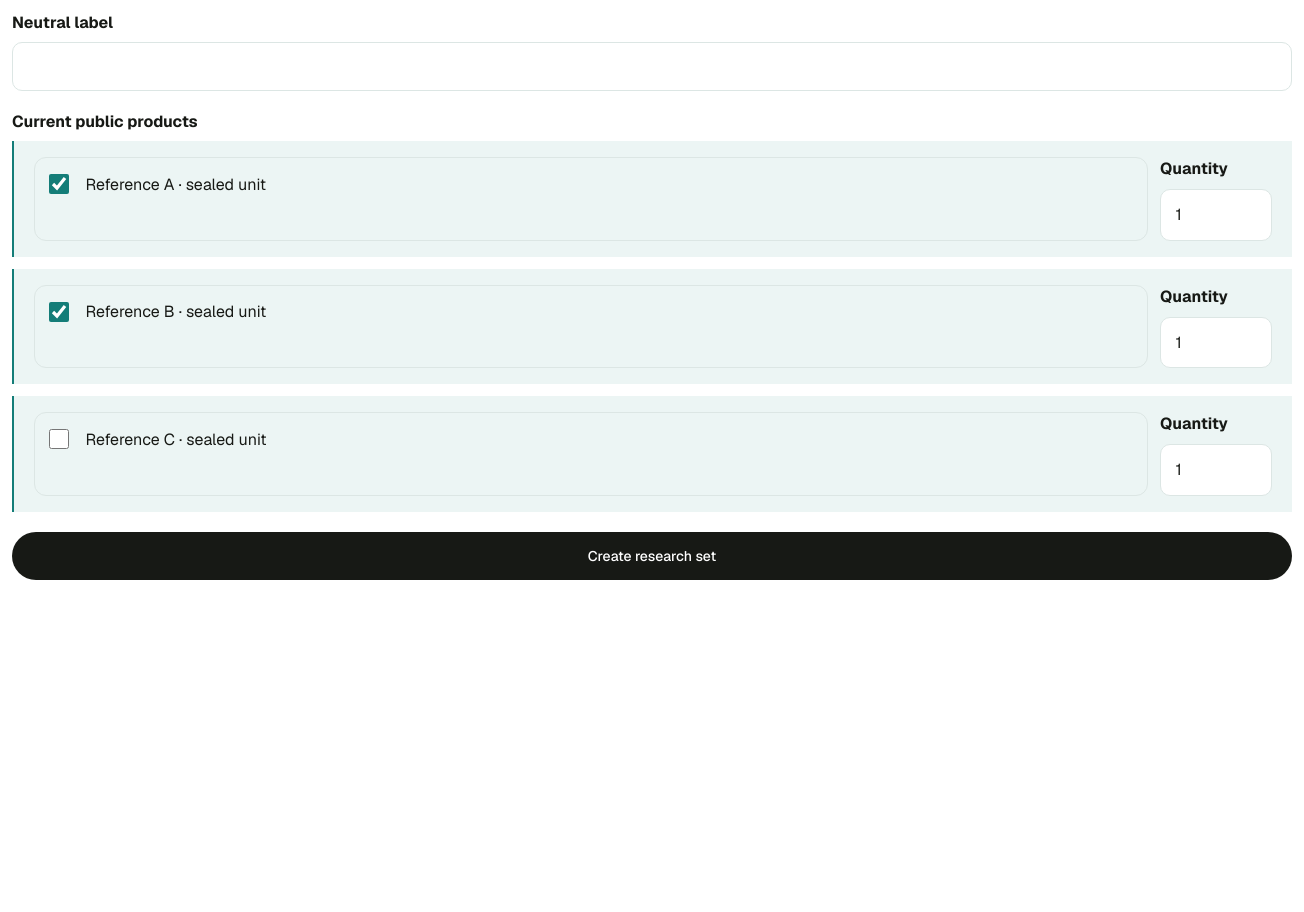
Test: SharedSetBuilder › focuses a customer-safe server error without rendering its raw code
Type "Neutral set" into the field labelled "Neutral label".
click(652, 67); type("Neutral set")  # box [12, 42, 1292, 91]
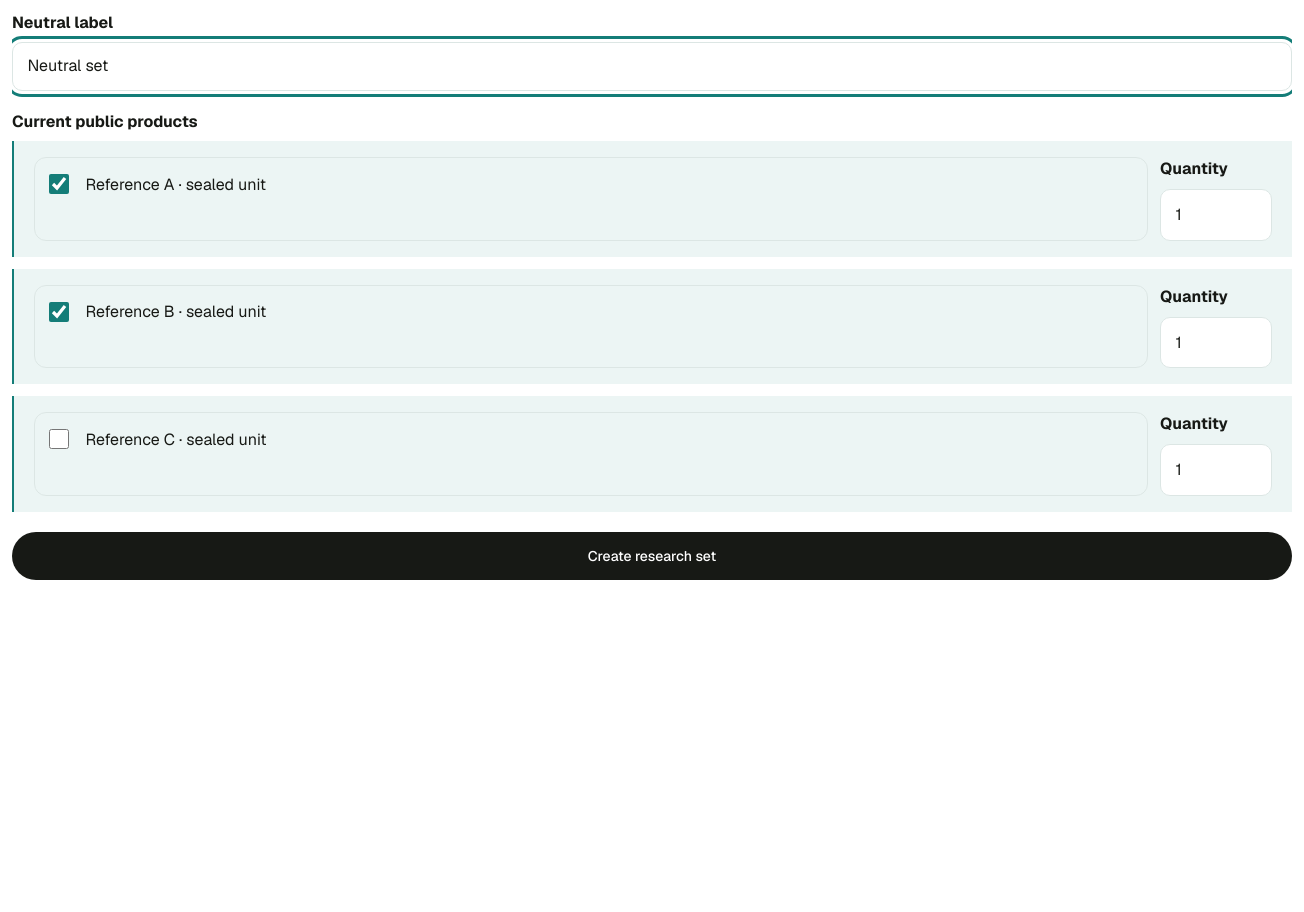
Click the button "Create research set".
click(652, 556)  # box [12, 532, 1292, 580]
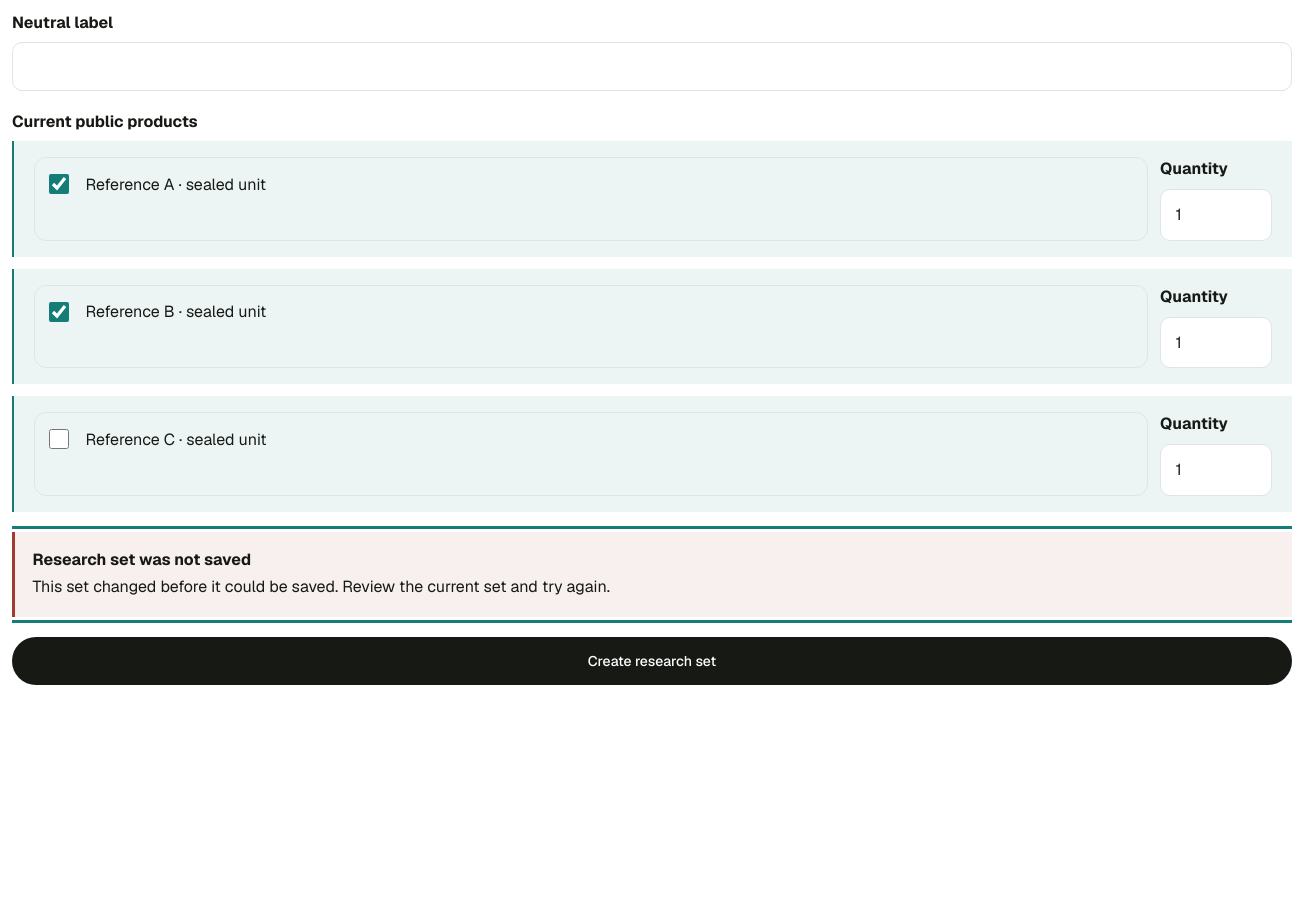
expect the message does not show "conflict": met, box [12, 532, 1292, 617]
expect the message shows "changed before it could be saved": met, box [33, 576, 610, 597]
